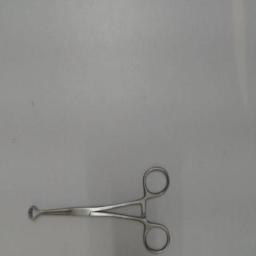Babcock Tissue Forceps: (26, 163, 174, 255)
